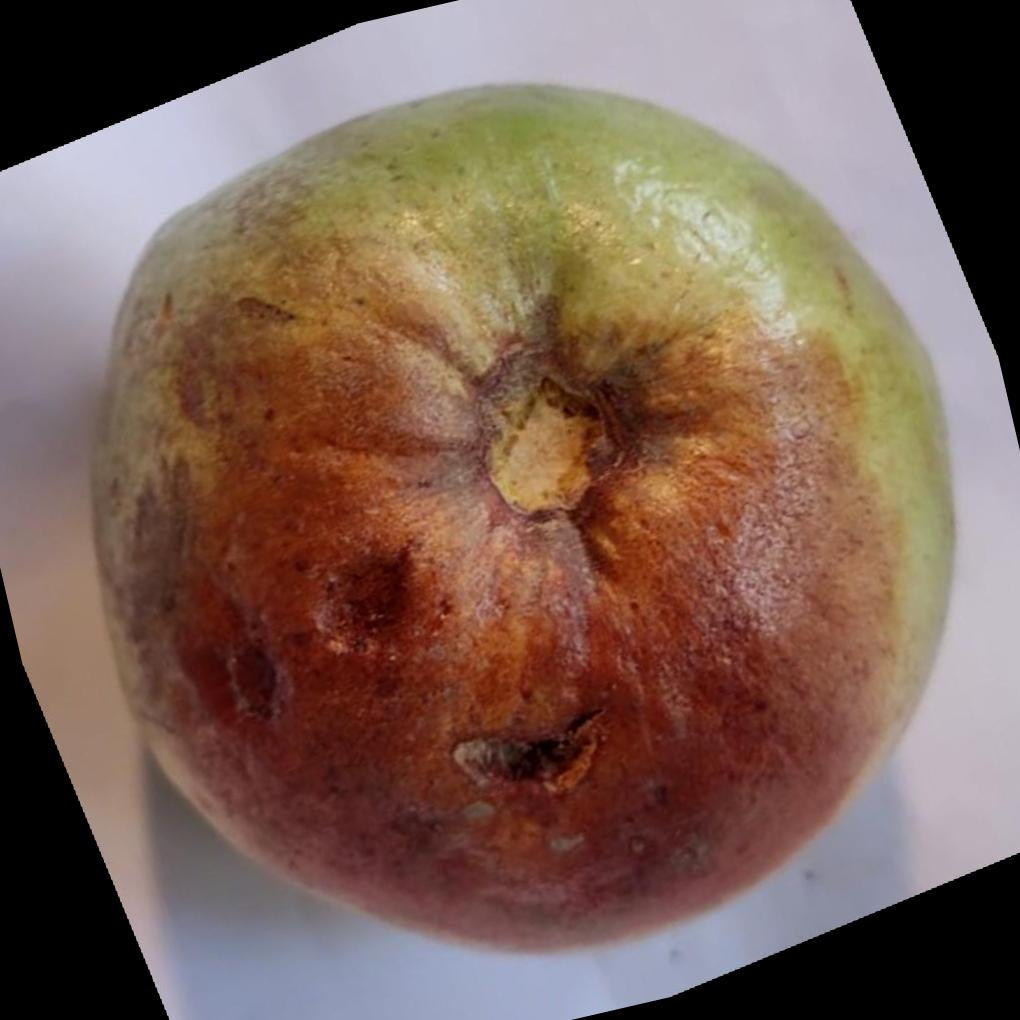FreshOrange: (90, 79, 961, 956)
